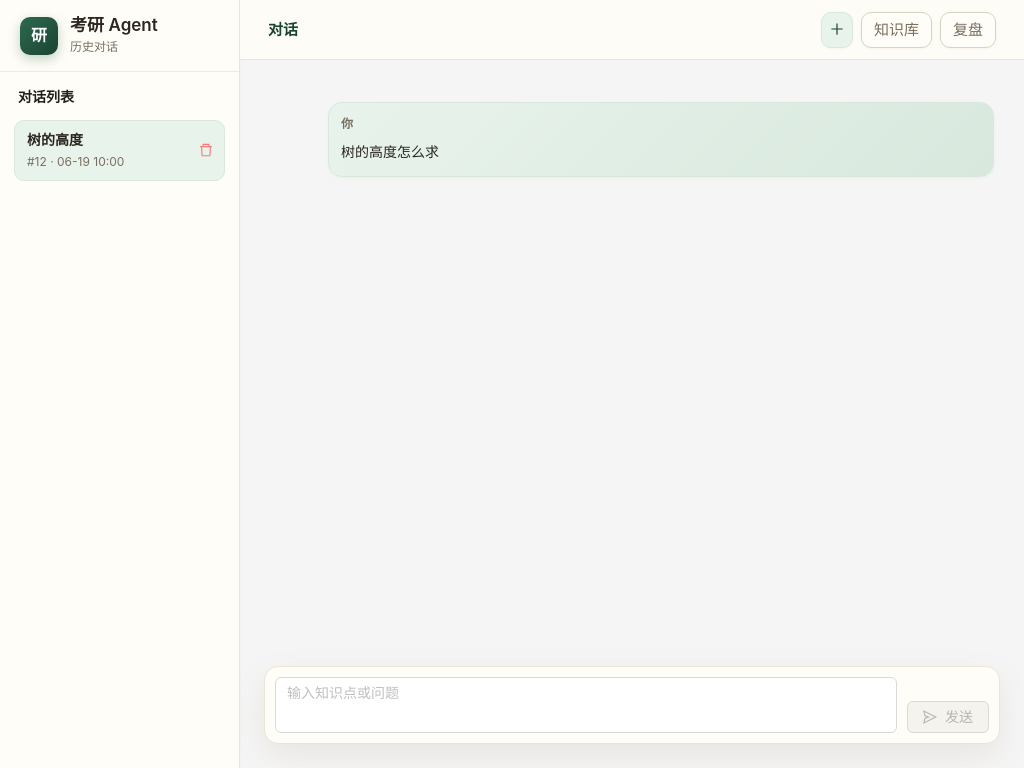
Scenario: header new chat clears the loaded conversation
Expected: the text "树的高度怎么求" is shown, left=341, top=143, right=439, bottom=160
Click the button named "新对话" at (837, 30), box left=821, top=12, right=853, bottom=48
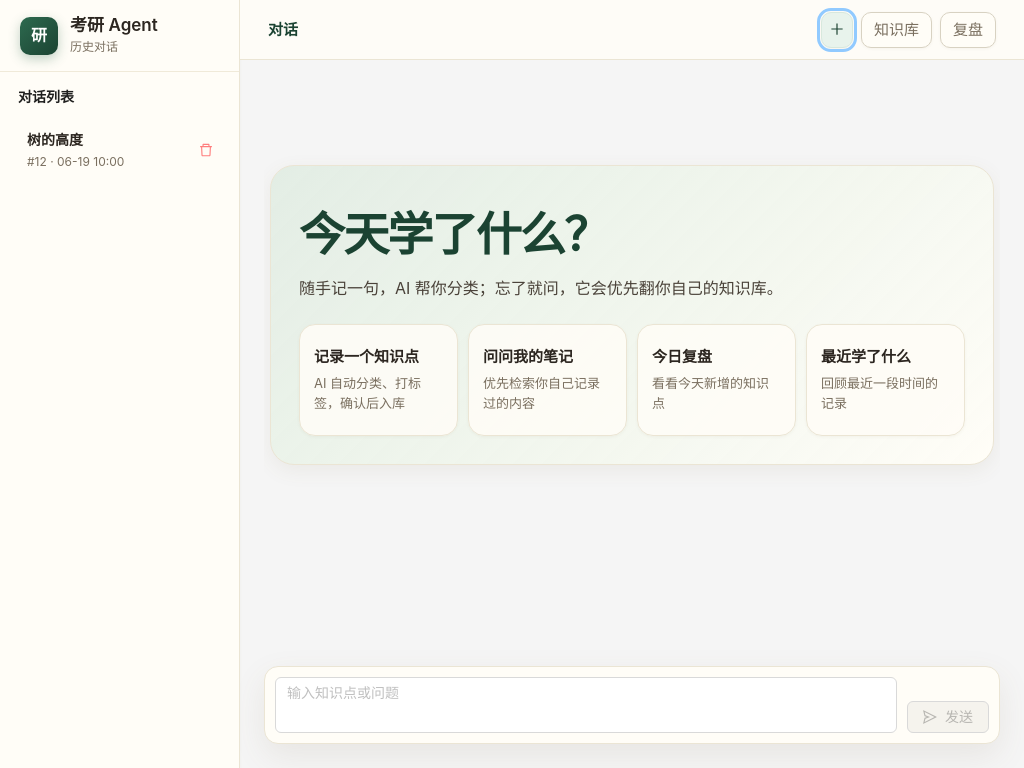
Now the text "树的高度怎么求" is gone
Now the heading "今天学了什么？" is shown, box left=299, top=206, right=608, bottom=262
